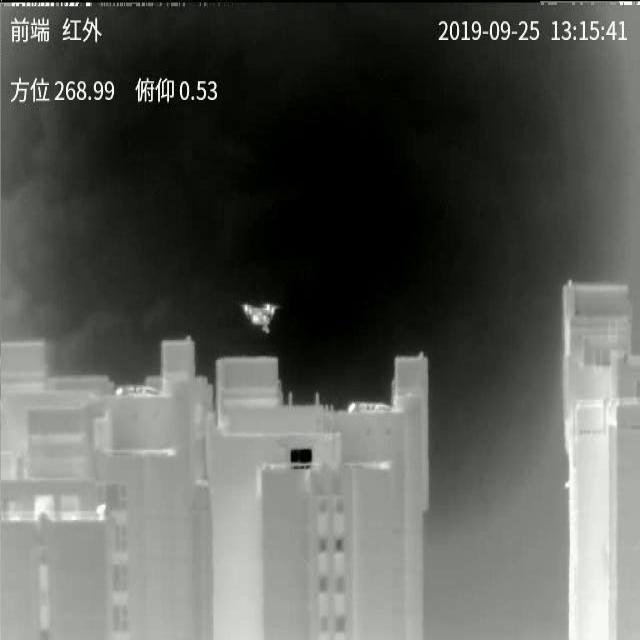drone: (240, 303, 280, 334)
